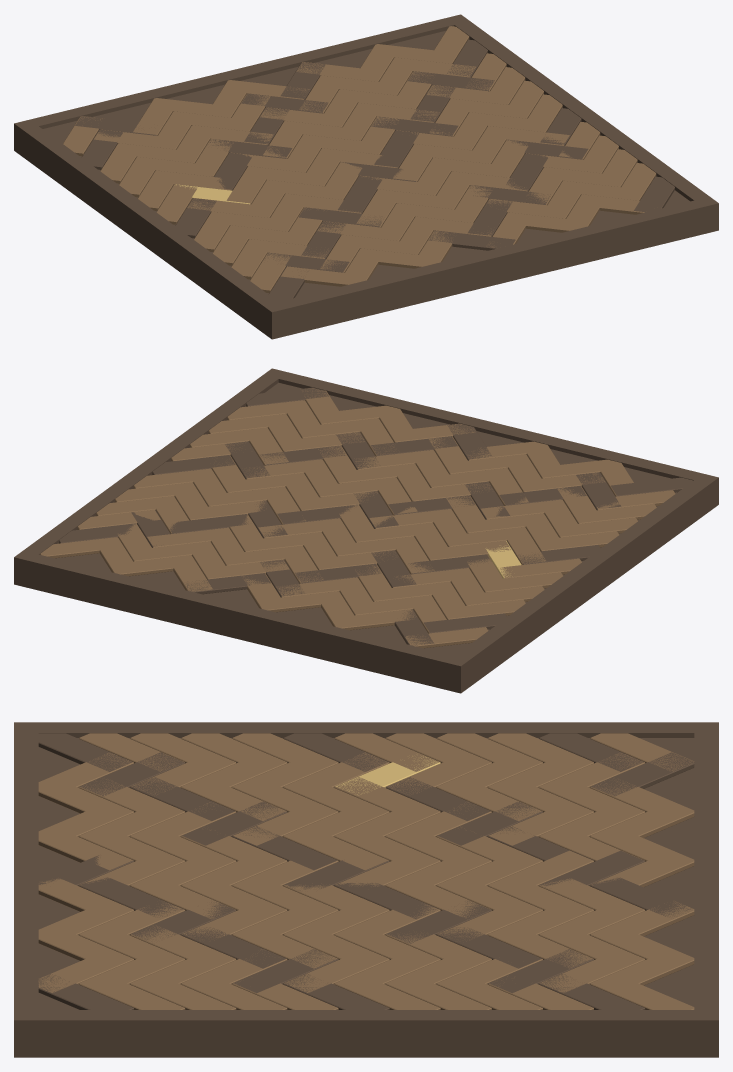
Rendered from floor_ex_herring.glb.
3 renders of one model, top to bottom at view 1: azimuth 30°, elevation 25°; view 2: azimuth 150°, elevation 25°; view 3: azimuth 270°, elevation 25°, orthographic. The views are drawn at different scales.
Visible parts, largest first — view 1: floor_ex_herring; view 2: floor_ex_herring; view 3: floor_ex_herring.
Boxes of the visible parts, bbox=[...] form: floor_ex_herring: bbox=[14, 14, 718, 339]; floor_ex_herring: bbox=[14, 368, 718, 693]; floor_ex_herring: bbox=[14, 722, 718, 1057].
Bounding box in the file's own units: 4 × 0.233 × 4.
